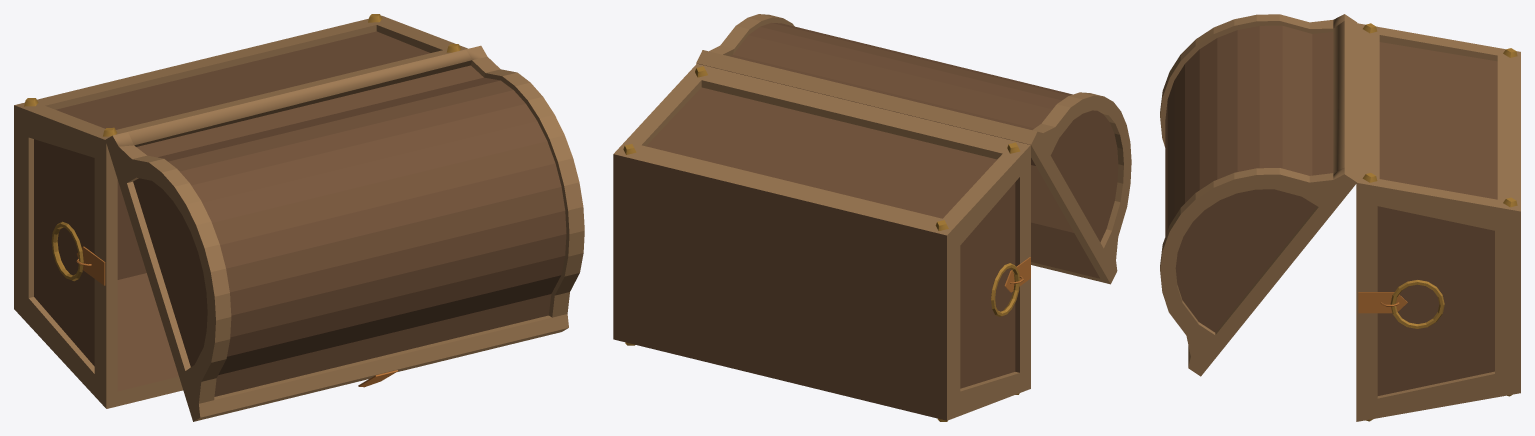
File: Chest_02.fbx
The picture shows the model from 3 angles, left to right: view 1: azimuth 30°, elevation 25°; view 2: azimuth 150°, elevation 25°; view 3: azimuth 270°, elevation 25°; orthographic projection. The views are drawn at different scales.
Parts seen in each view (by area): view 1: Coffre_Haut.001, Coffre_Bas; view 2: Coffre_Bas, Coffre_Haut.001; view 3: Coffre_Bas, Coffre_Haut.001.
Boxes of the visible parts, box(x1,y1,x2,y2) form: Coffre_Haut.001: box(105, 45, 584, 421); Coffre_Bas: box(14, 14, 467, 408); Coffre_Bas: box(613, 63, 1030, 421); Coffre_Haut.001: box(696, 14, 1131, 284); Coffre_Bas: box(1356, 23, 1520, 421); Coffre_Haut.001: box(1160, 14, 1357, 376).
Size of the model in its own units: 105 by 75.11 by 95.45.
